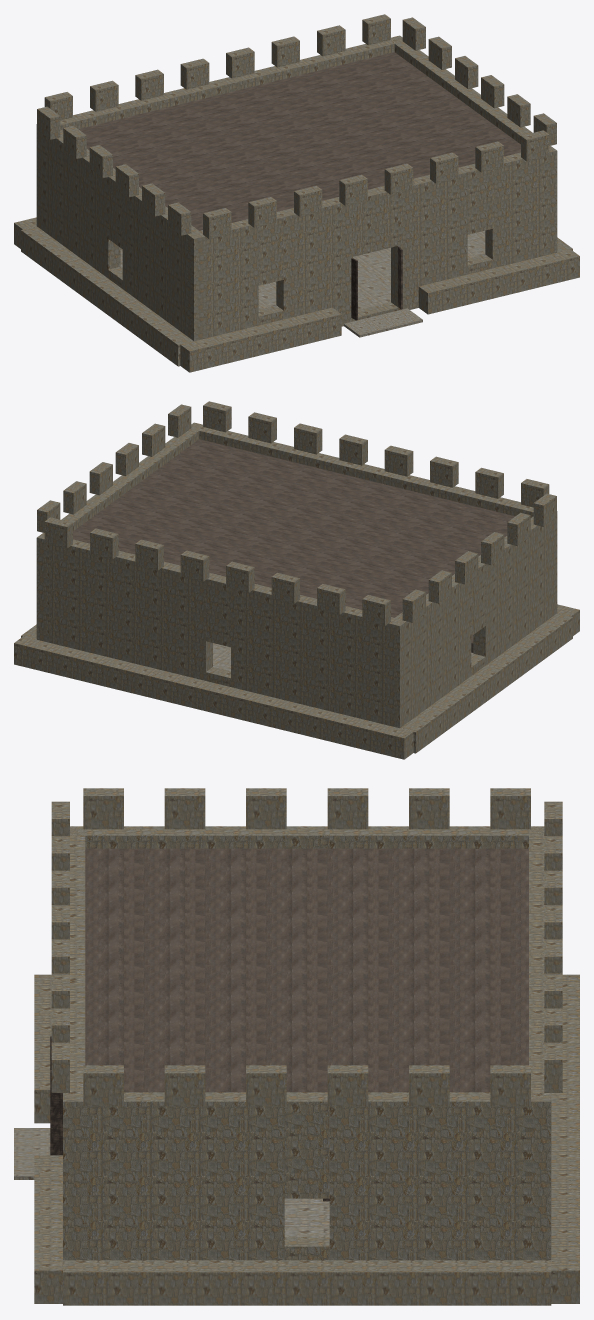
Rendered from prop_hk_trainer_warrior.glb.
3 views of the same model, one above another, from view 1: azimuth 30°, elevation 25°; view 2: azimuth 150°, elevation 25°; view 3: azimuth 270°, elevation 25° (orthographic). The views are drawn at different scales.
Visible parts, largest first — view 1: building_hk_trainer_warrior; view 2: building_hk_trainer_warrior; view 3: building_hk_trainer_warrior.
Part boxes in pixels (bbox=[...]): building_hk_trainer_warrior: bbox=[14, 14, 579, 372]; building_hk_trainer_warrior: bbox=[14, 401, 579, 759]; building_hk_trainer_warrior: bbox=[14, 788, 579, 1305].
Bounding box in the file's own units: 17.4 × 6.1 × 13.9.
Materials: 4 (4 with a texture image).
